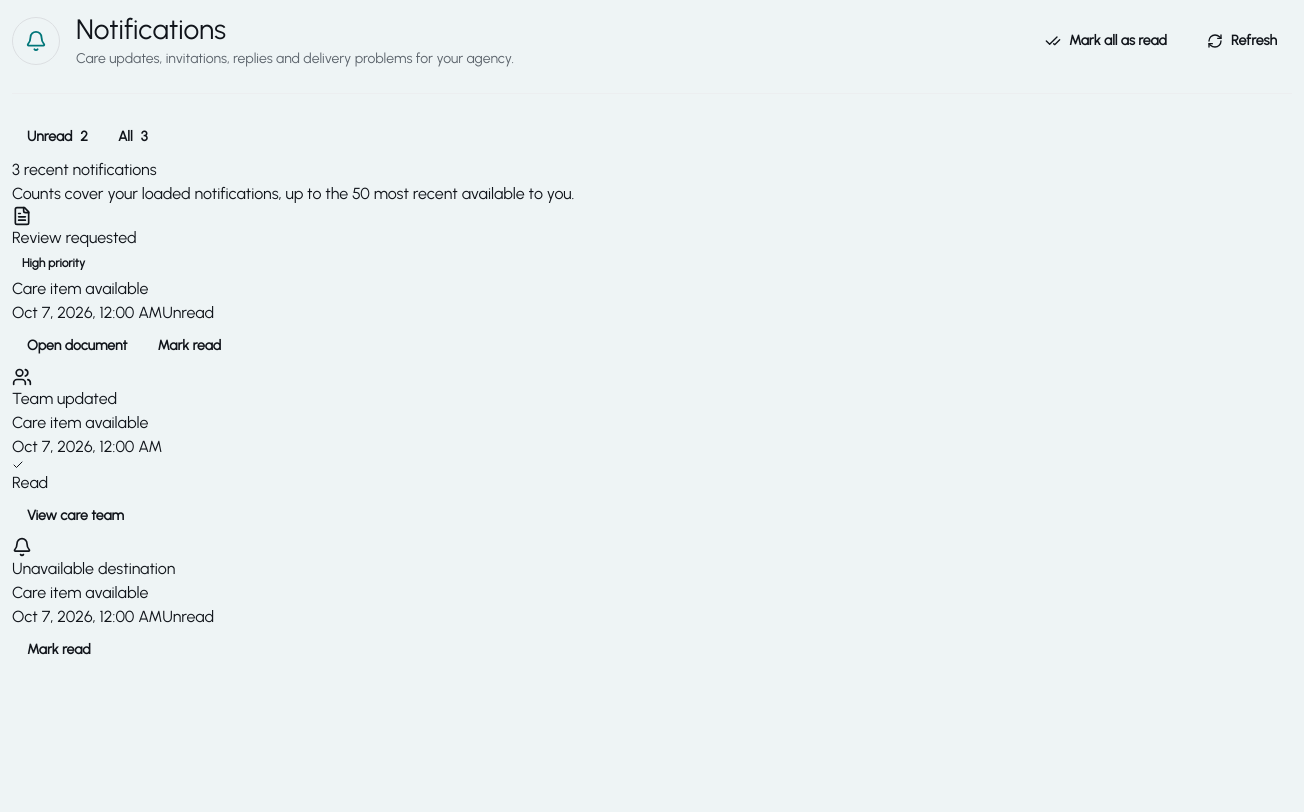
Test: filters recent notifications with scoped counts and keeps unavailable destinations out of the inbox actions
Expected: the text "Counts cover your loaded notifications, up to the 50 most recent" is shown, 12,184 -> 574,203
Expected: the text "High priority" is shown, 22,256 -> 85,270
Click the button "Unread 2".
click(58, 137)  # box 12,116 -> 103,158
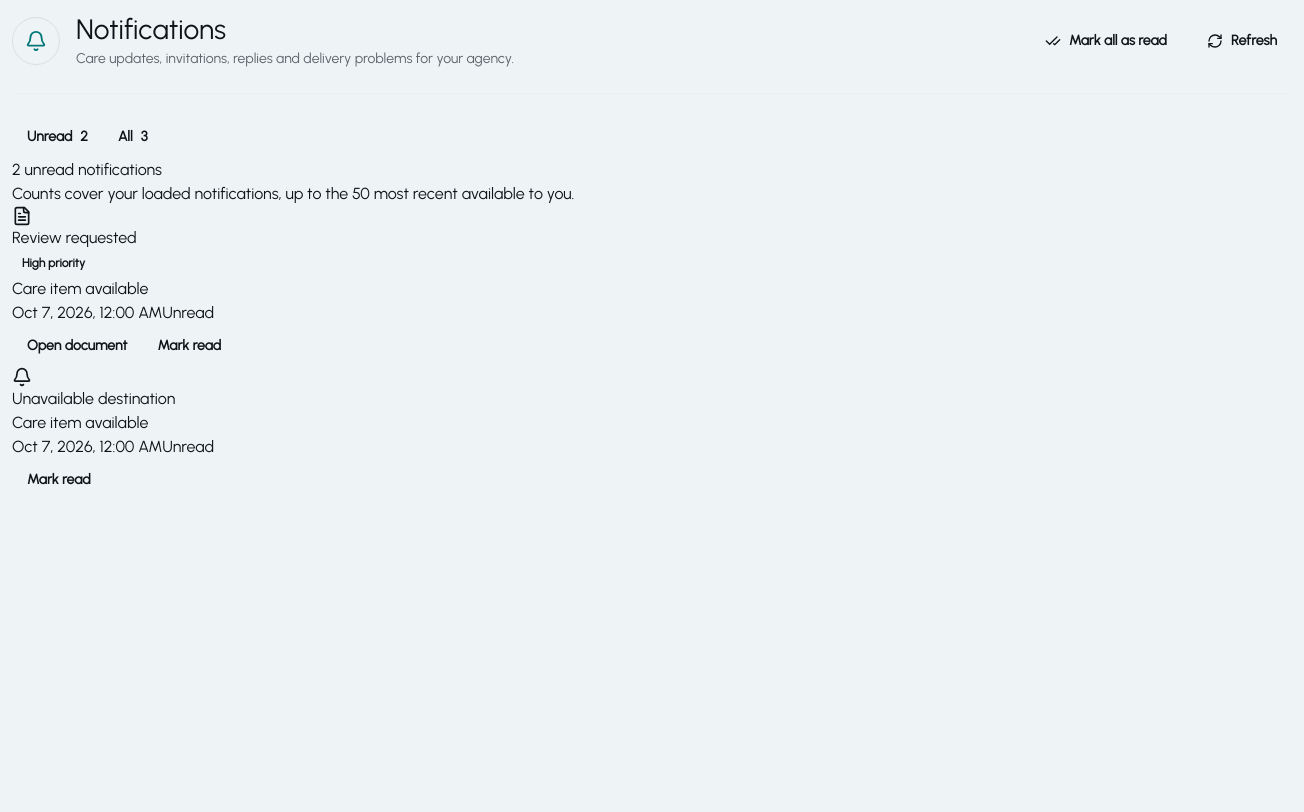
Expected: the heading "Team updated" is gone
Click the button "All 3".
click(133, 137)  # box 103,116 -> 163,158
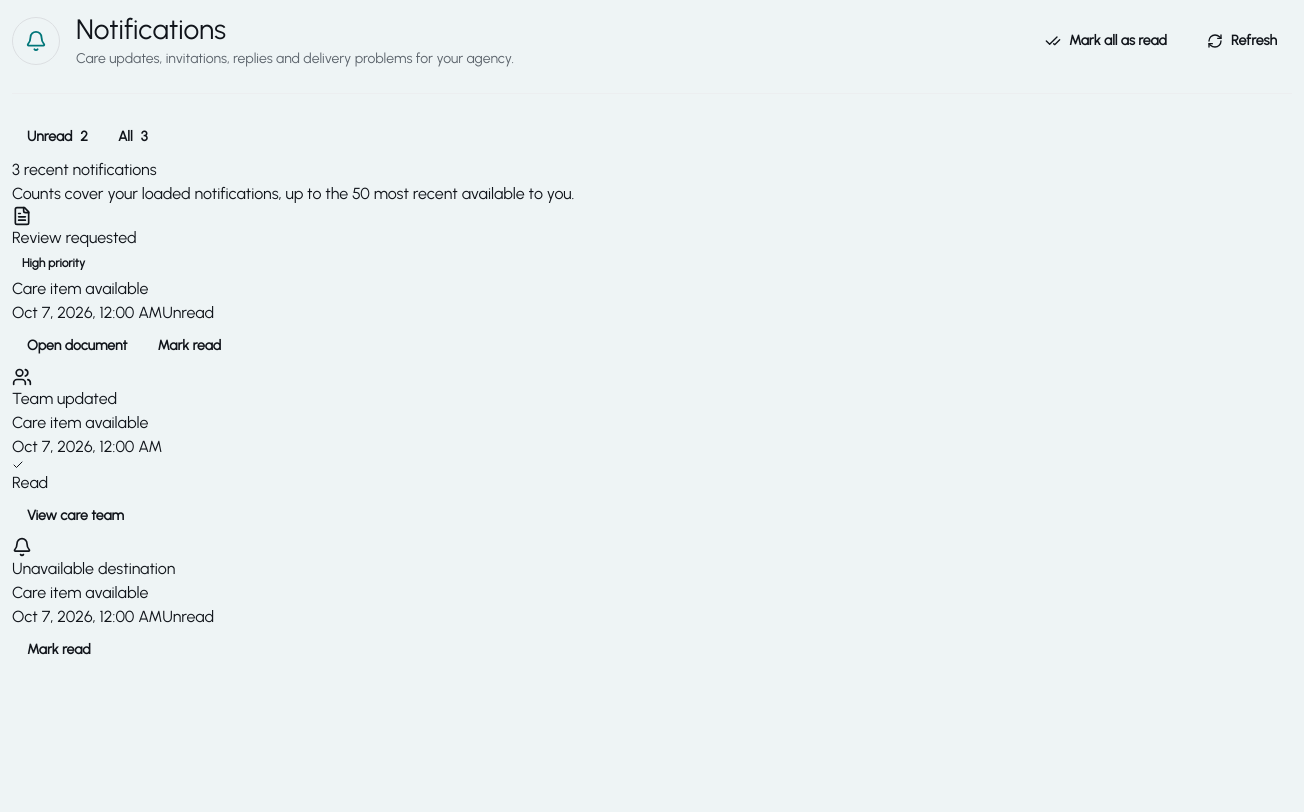
Expected: the element "Team updated" is shown, 12,367 -> 162,524
